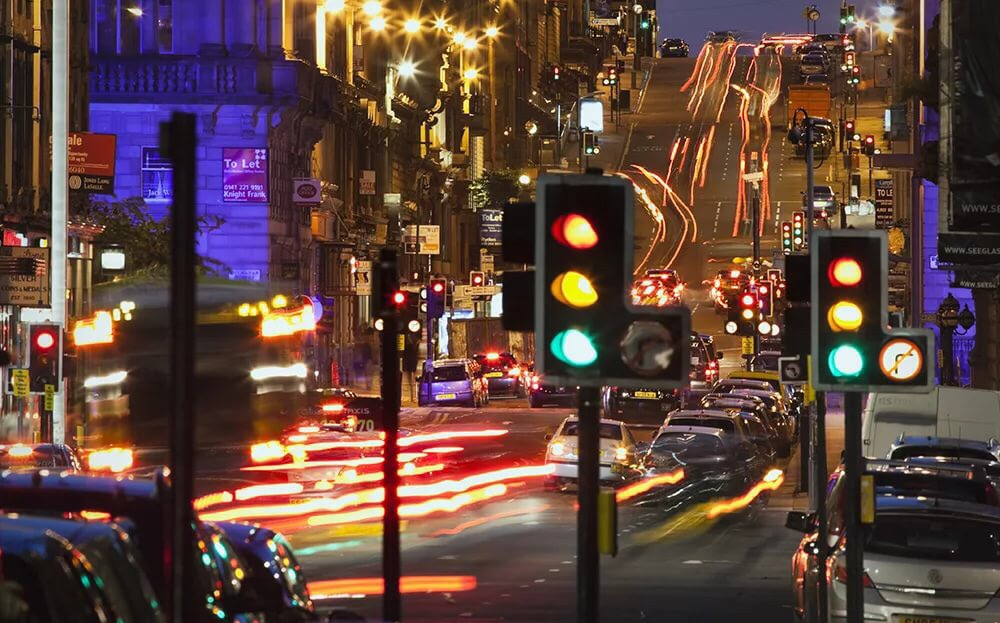tl: (544, 179, 681, 383), (813, 232, 936, 386)
